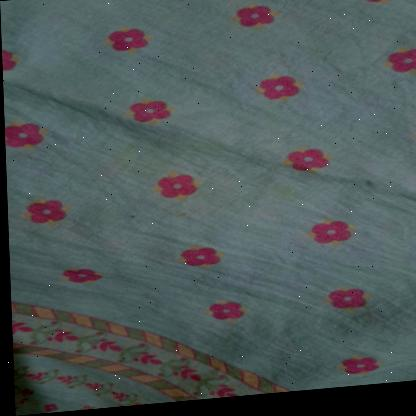spot: (262, 184, 301, 211), (170, 213, 191, 222), (363, 184, 378, 195)
